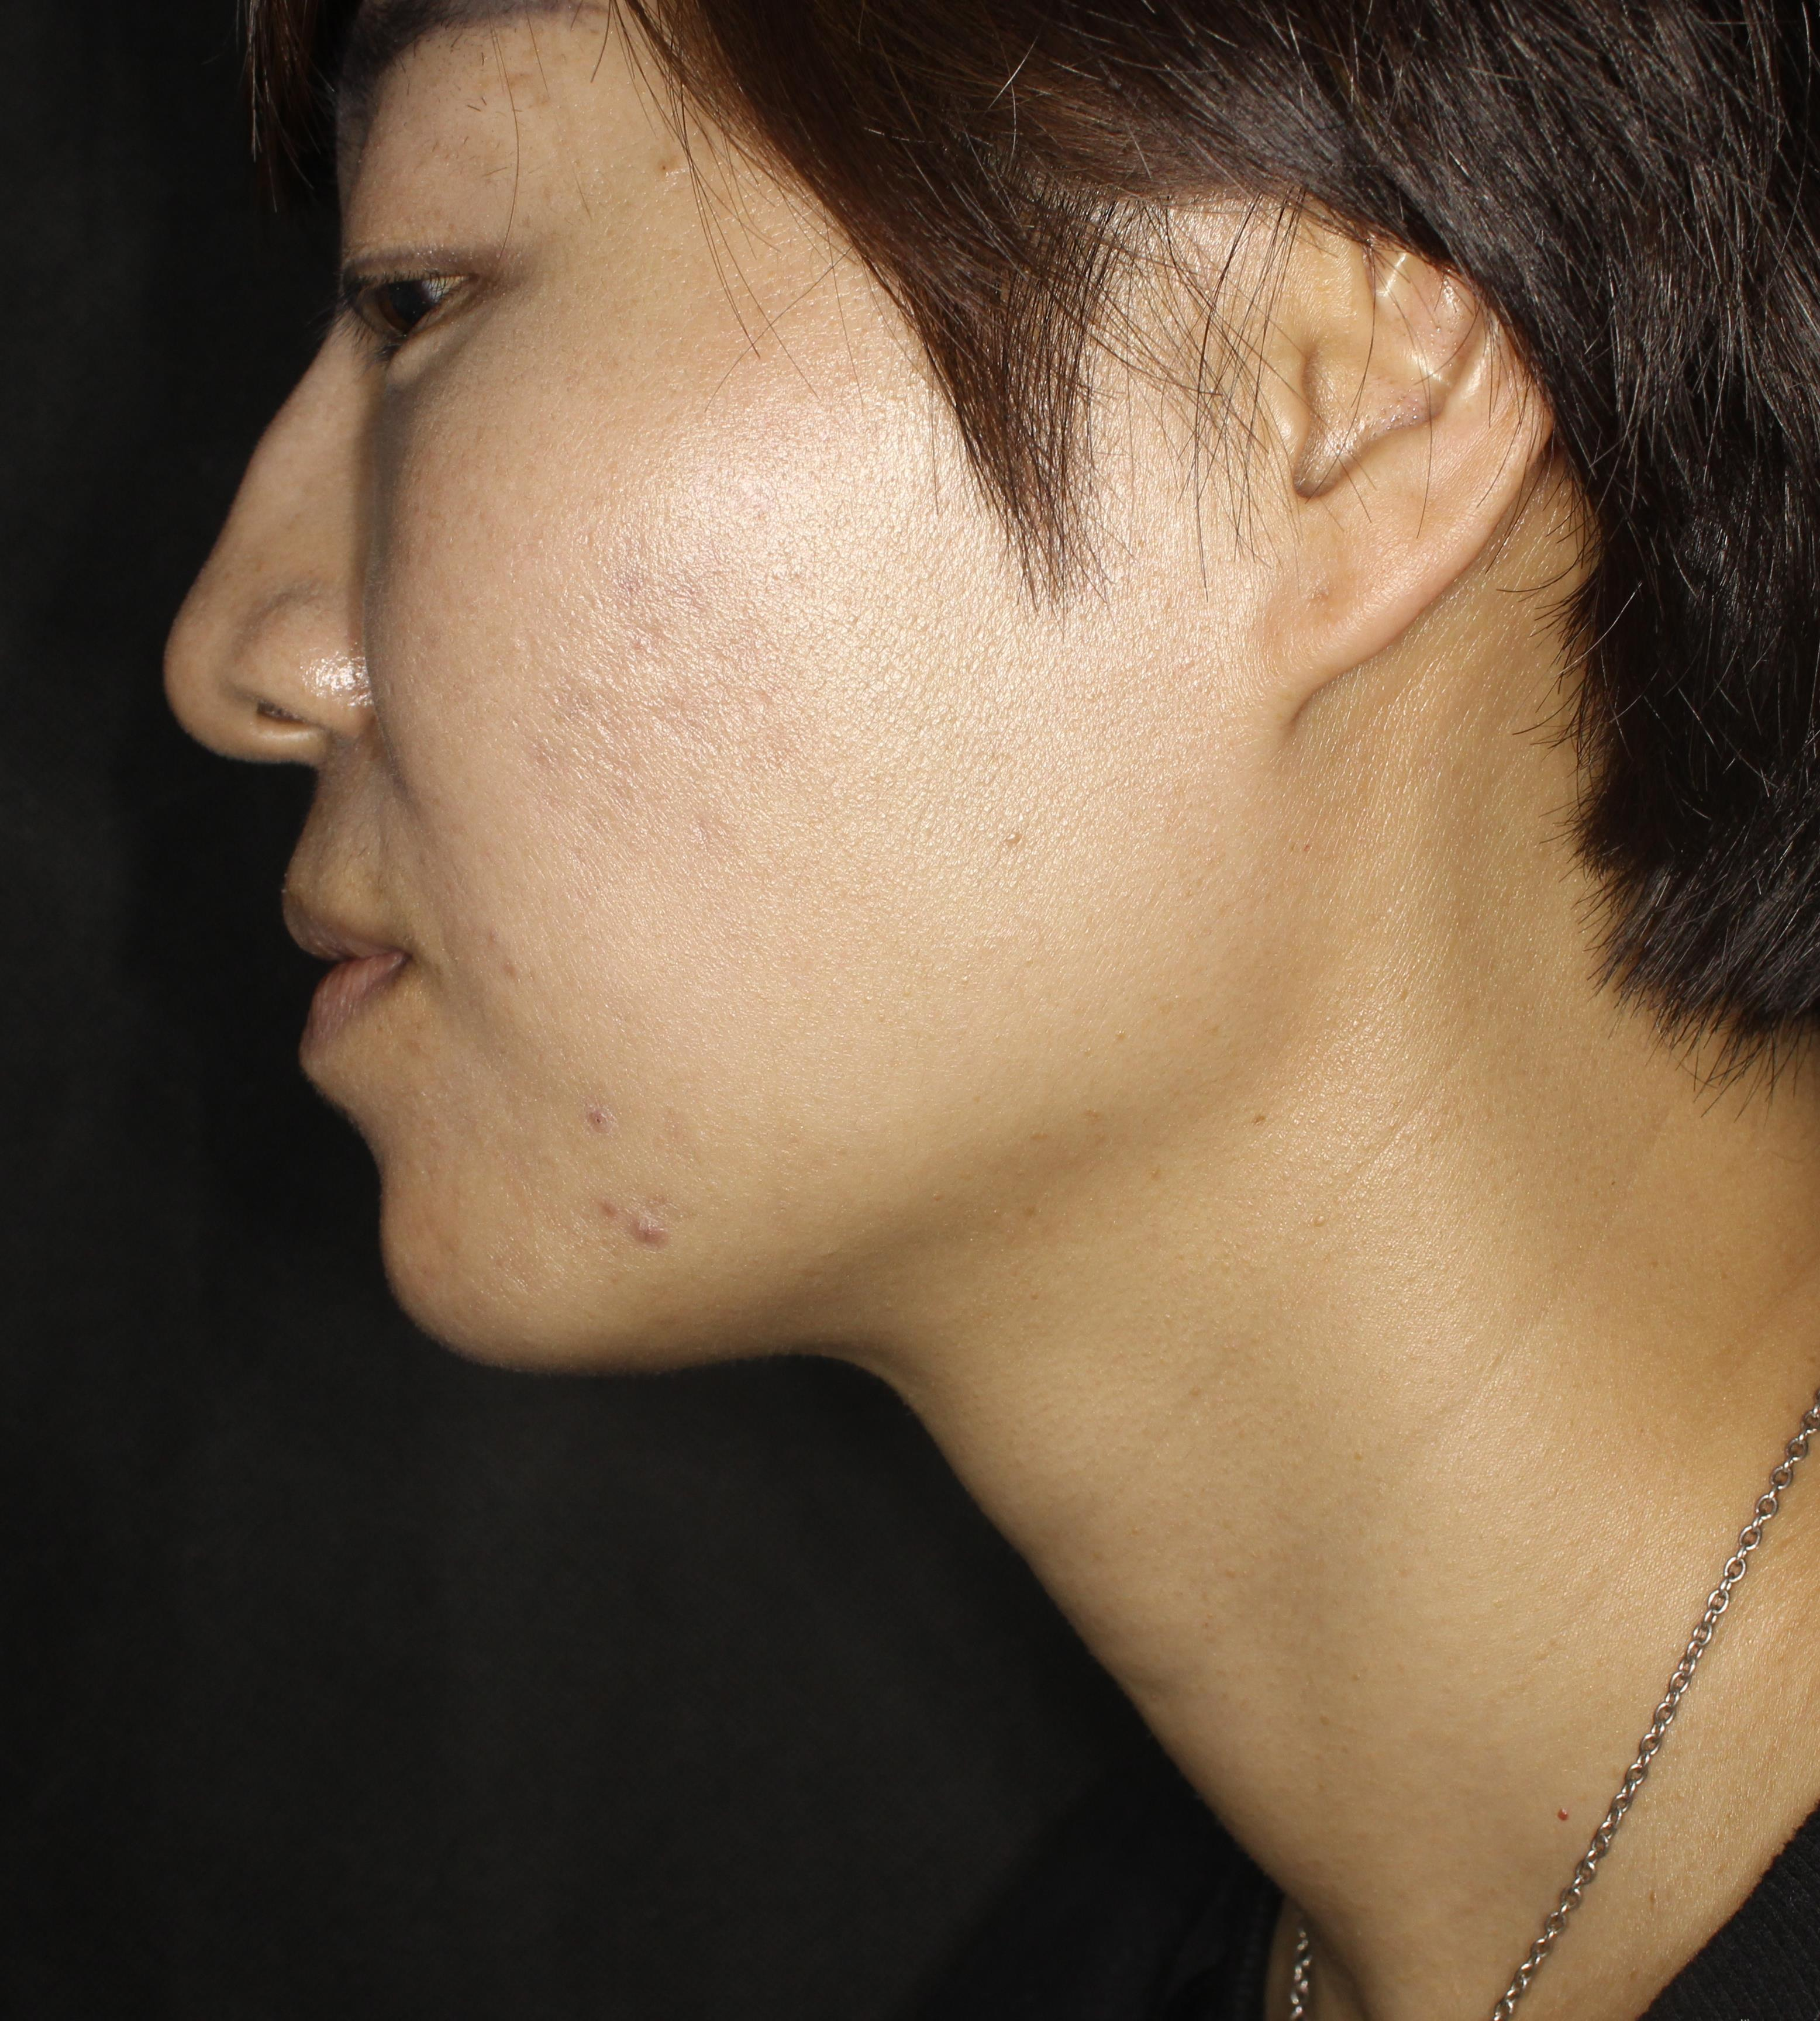fore: (580, 1176, 750, 1289)
